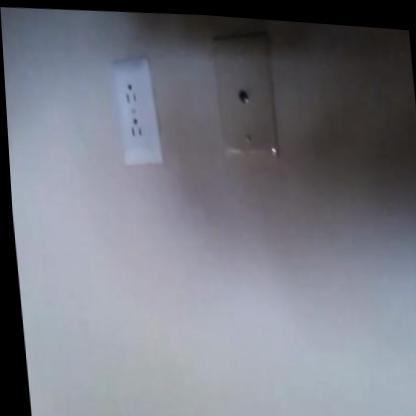OUTLET: (111, 60, 158, 165)
